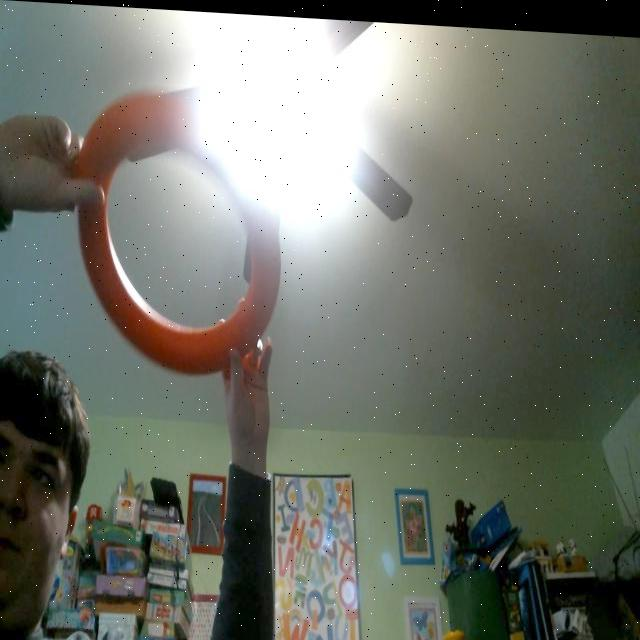note: (78, 87, 284, 383)
